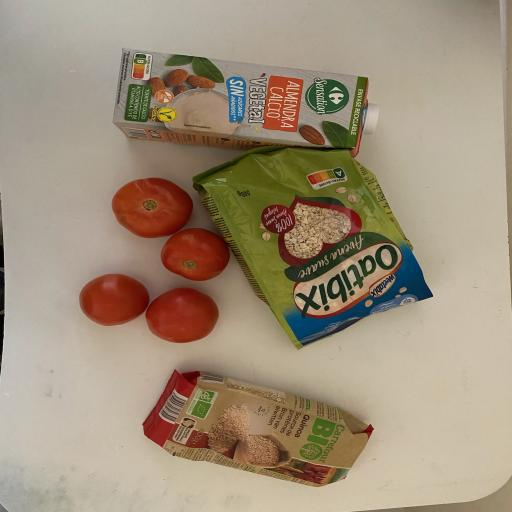almond_milk: (111, 45, 385, 159)
oats: (191, 142, 438, 351)
quinoa: (136, 365, 378, 491)
tomato: (108, 174, 196, 243), (145, 284, 223, 346), (158, 225, 236, 283), (76, 272, 150, 329)
